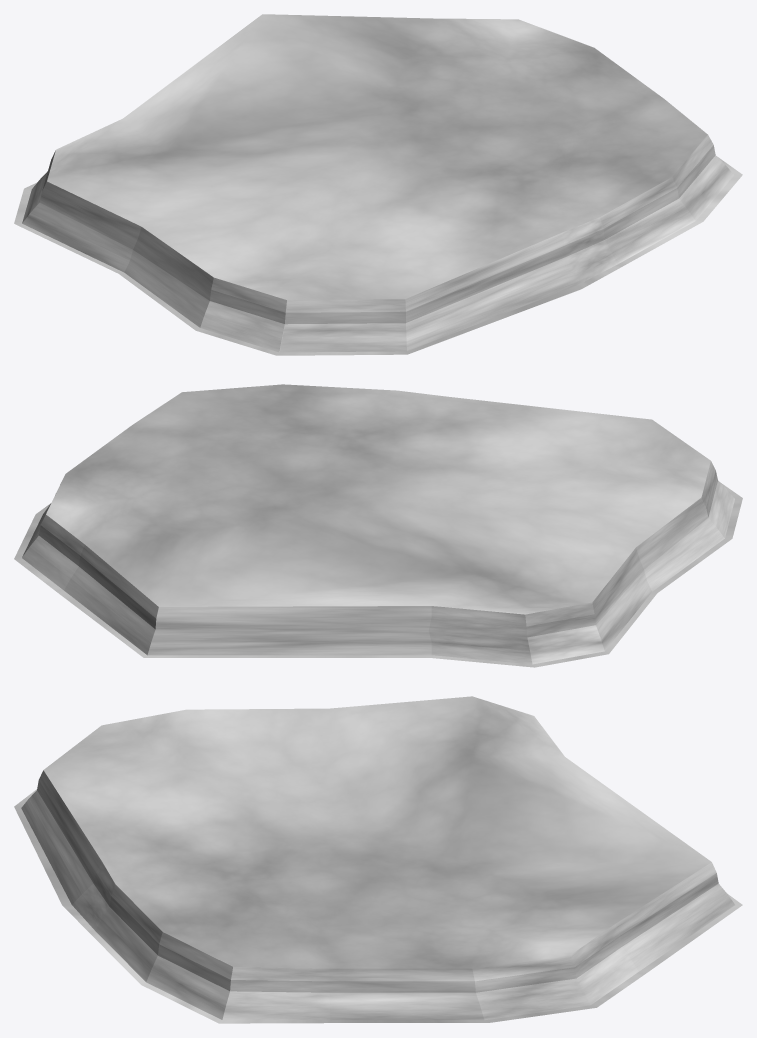
Rendered from Large_StepStone2.obj.
The picture shows the model from 3 angles, top to bottom: view 1: azimuth 30°, elevation 25°; view 2: azimuth 150°, elevation 25°; view 3: azimuth 270°, elevation 25°; orthographic projection. The views are drawn at different scales.
Visible parts, largest first — view 1: Cube_Cube.001; view 2: Cube_Cube.001; view 3: Cube_Cube.001.
Boxes of the visible parts, x1,y1,x2,y2 form: Cube_Cube.001: [14, 14, 742, 355]; Cube_Cube.001: [14, 384, 742, 667]; Cube_Cube.001: [14, 696, 742, 1023].
Bounding box in the file's own units: 13.75 × 0.9233 × 14.27.
